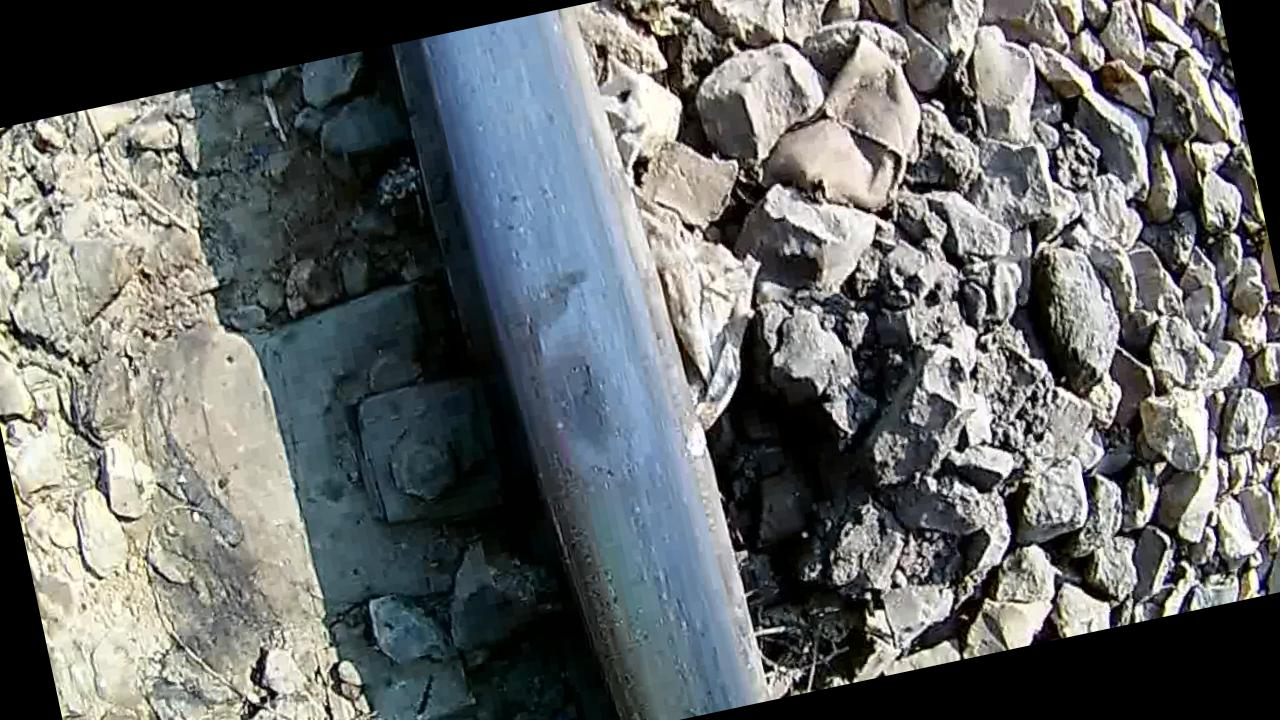bolt_missing: (470, 221, 688, 584)
